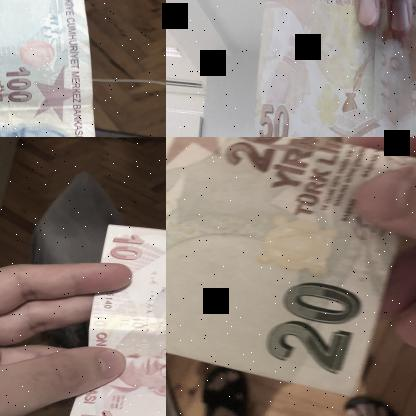5 TL: (0, 0, 102, 136)
